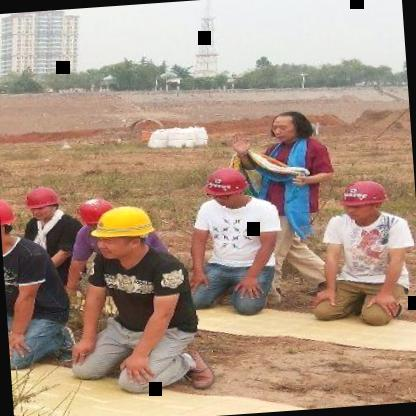helmet: (89, 202, 154, 261), (337, 177, 392, 222), (202, 165, 250, 208), (22, 183, 62, 221), (78, 194, 112, 232), (0, 192, 19, 245)
